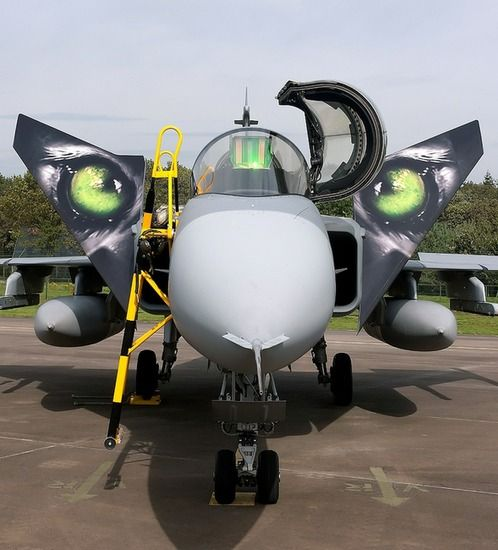JAS39: (1, 79, 498, 503)
